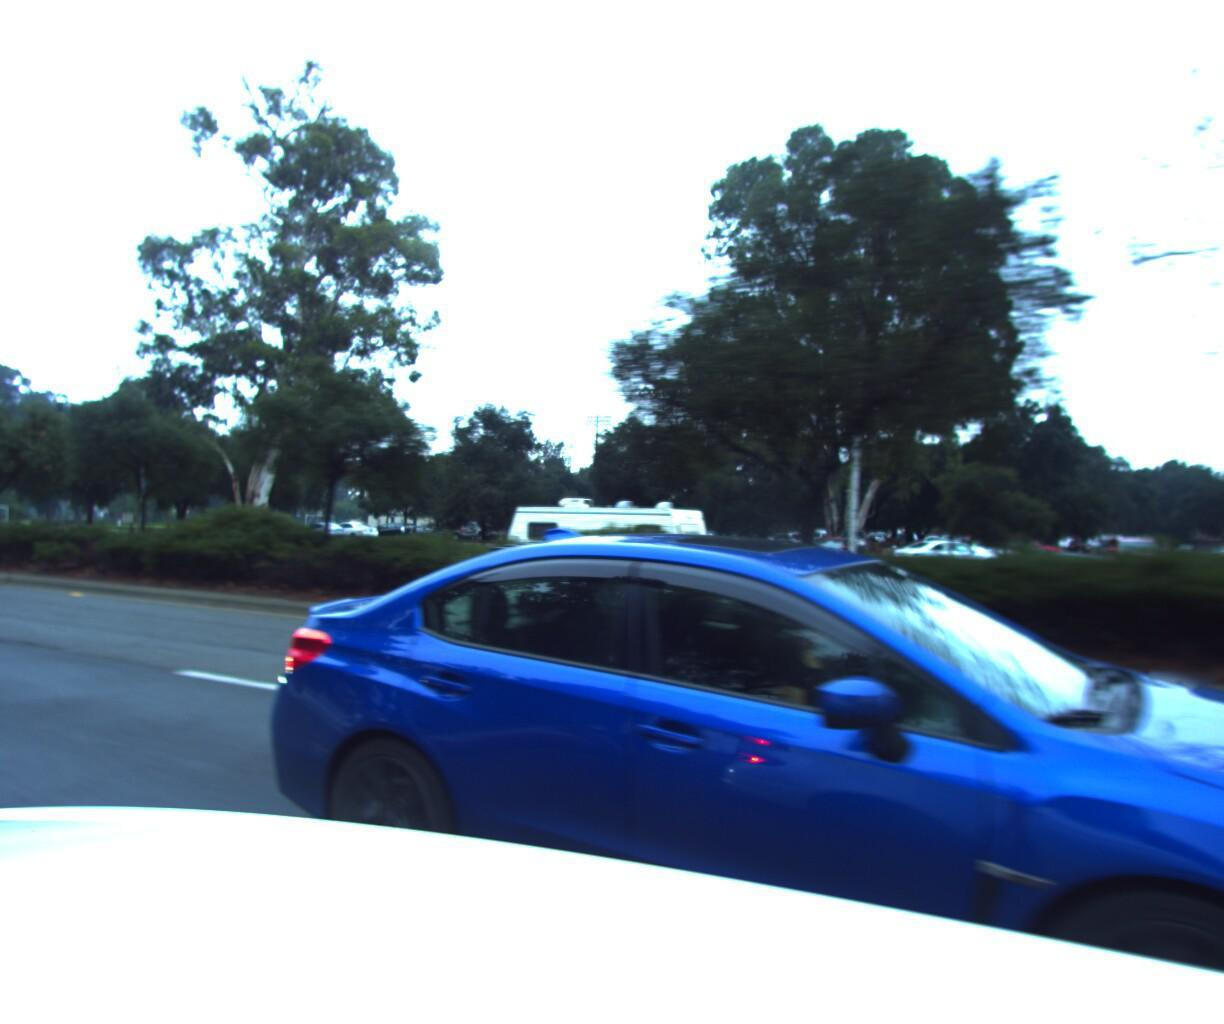car: (220, 528, 1224, 1024), (937, 540, 1177, 621), (736, 542, 903, 601)
other_vehicle: (489, 488, 717, 588)
